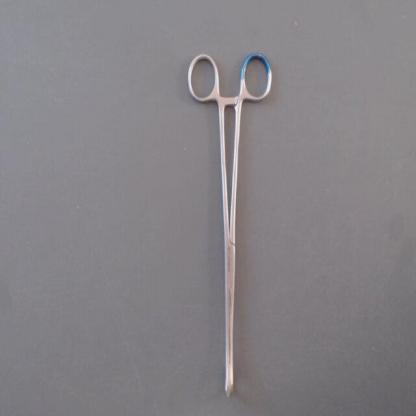Sponge Forceps: (180, 44, 280, 408)
